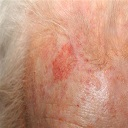Actinic: (48, 43, 79, 78)
